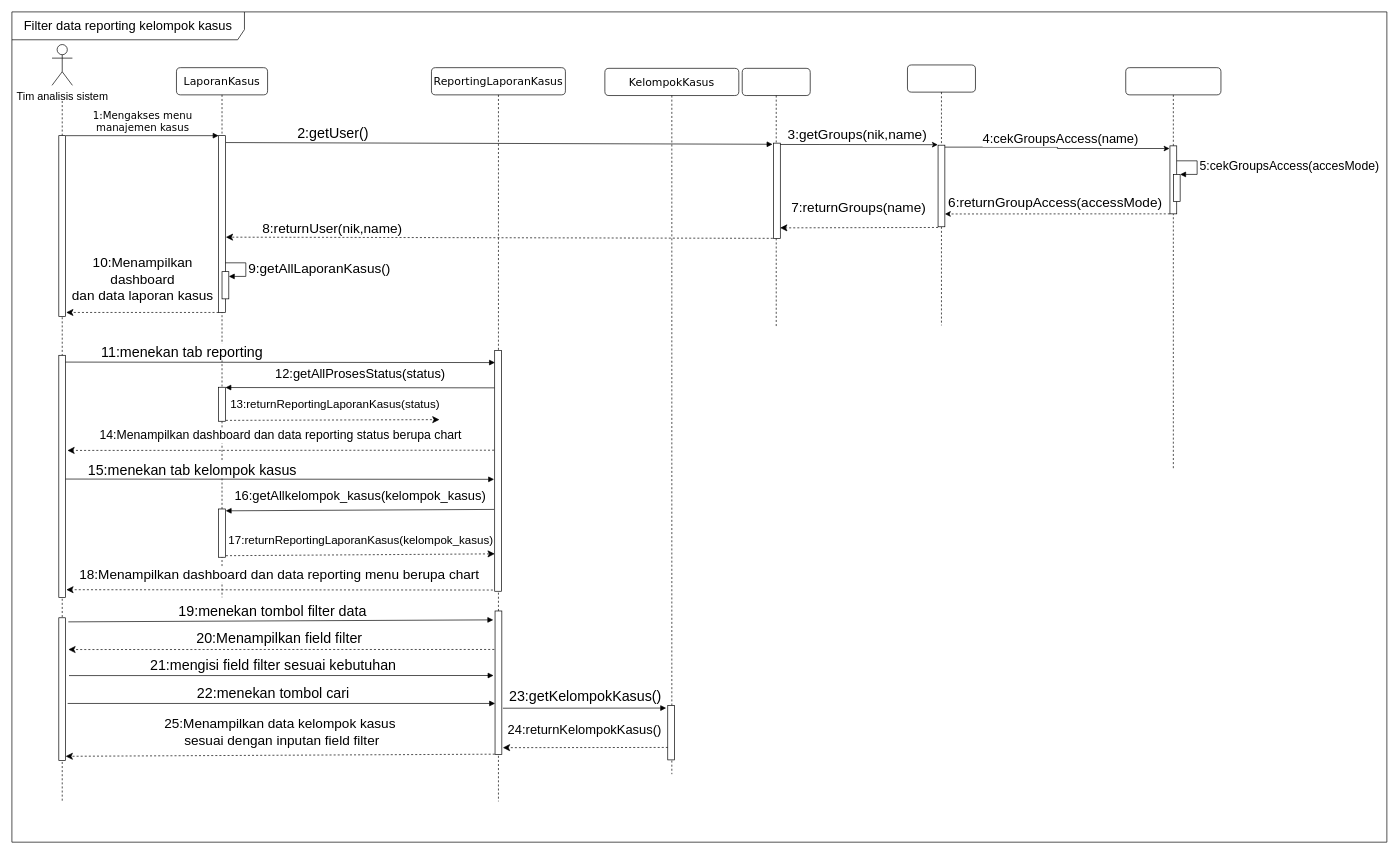
Some shapes in this 1399 by 854 pixel diagram are drawn without their labels. The box of each missing label's shape, as (x1, y1, x2, y2) in pixels:
Groups: (907, 64, 975, 325)
GroupsAccess: (1125, 67, 1221, 468)
User: (742, 68, 810, 326)
